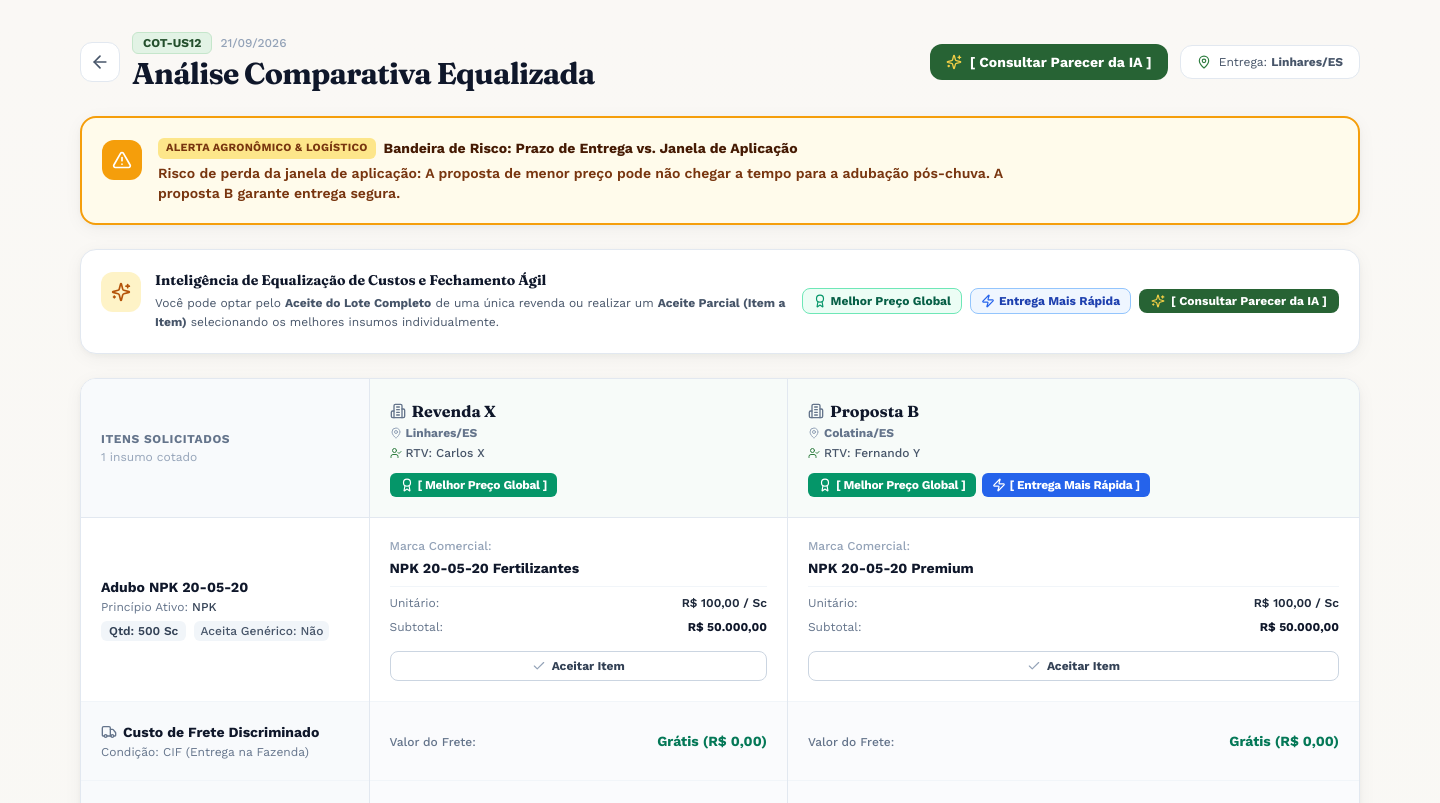
Test: US12 – Análise Preditiva de Janela de Compra e Modalidade Financeira (QuotationComparativePage) › Cenário 1: Avaliação de Custo Financeiro (À Vista vs. Prazo Safra) › deve permitir abrir o parecer financeiro através do botão secundário no banner de inteligência
Click the button with test id "btn-consult-ai-opinion-banner" at (1239, 301), box x1=1139 y1=289 x2=1339 y2=313
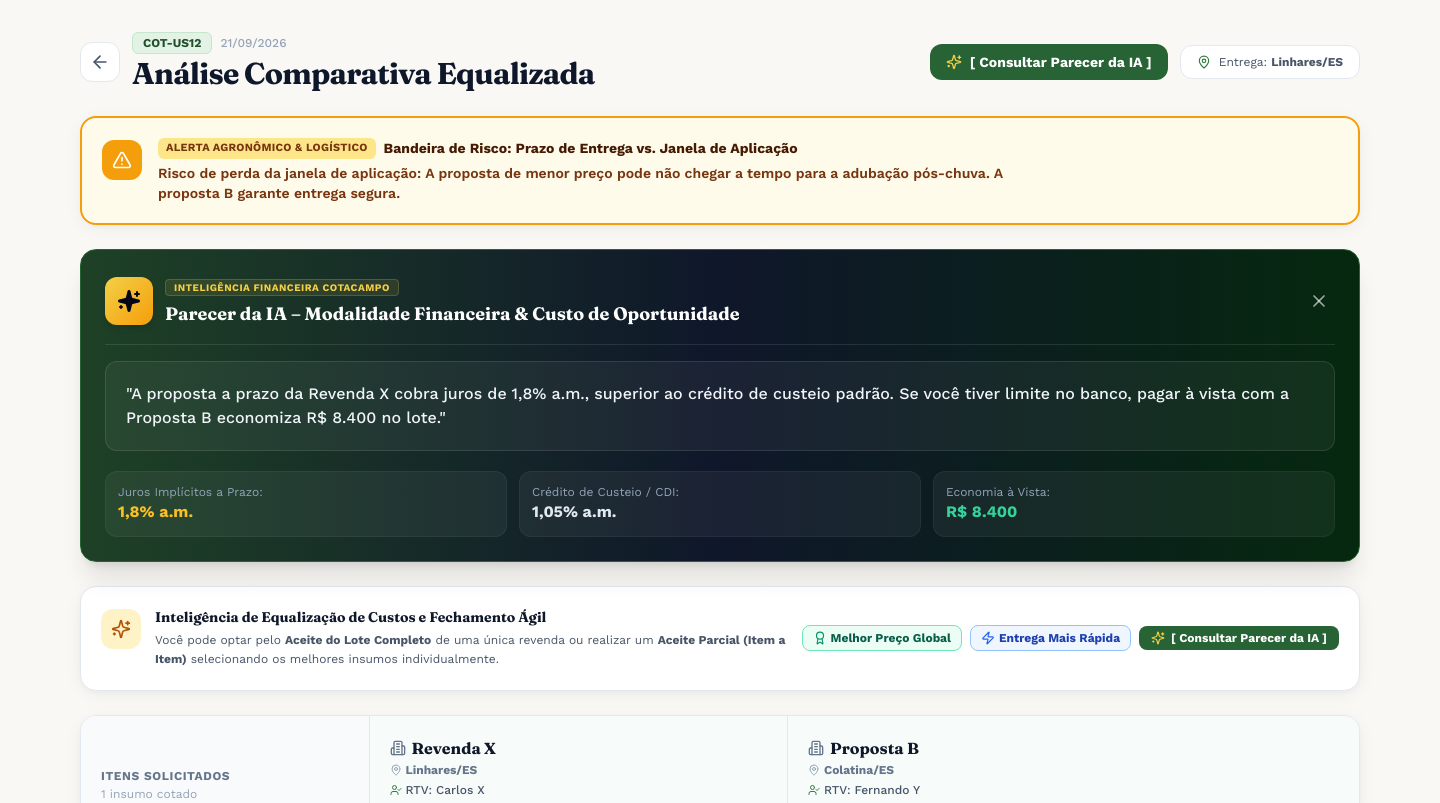
Expected: the element with test id "ai-financial-opinion-card" is shown, x1=80 y1=248 x2=1360 y2=562
